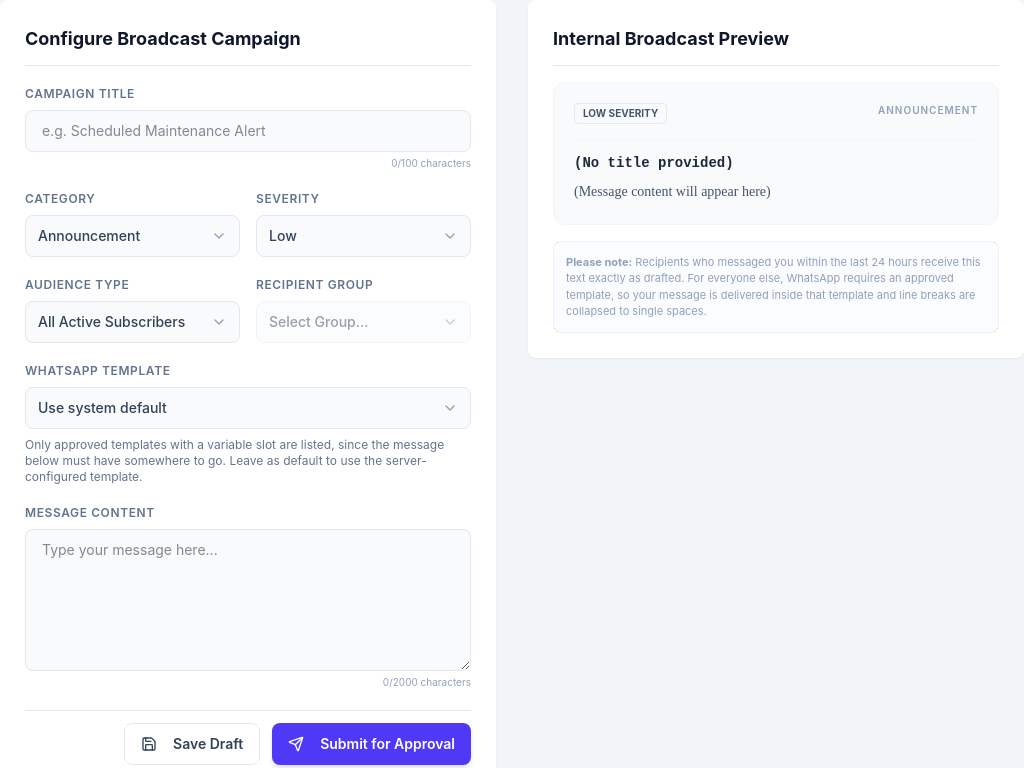
Scenario: BroadcastForm validation › blocks submission when the message is empty
Type "Has title" into the field with placeholder "e.g. Scheduled Maintenance Alert" at (248, 131), box x1=25 y1=110 x2=471 y2=152
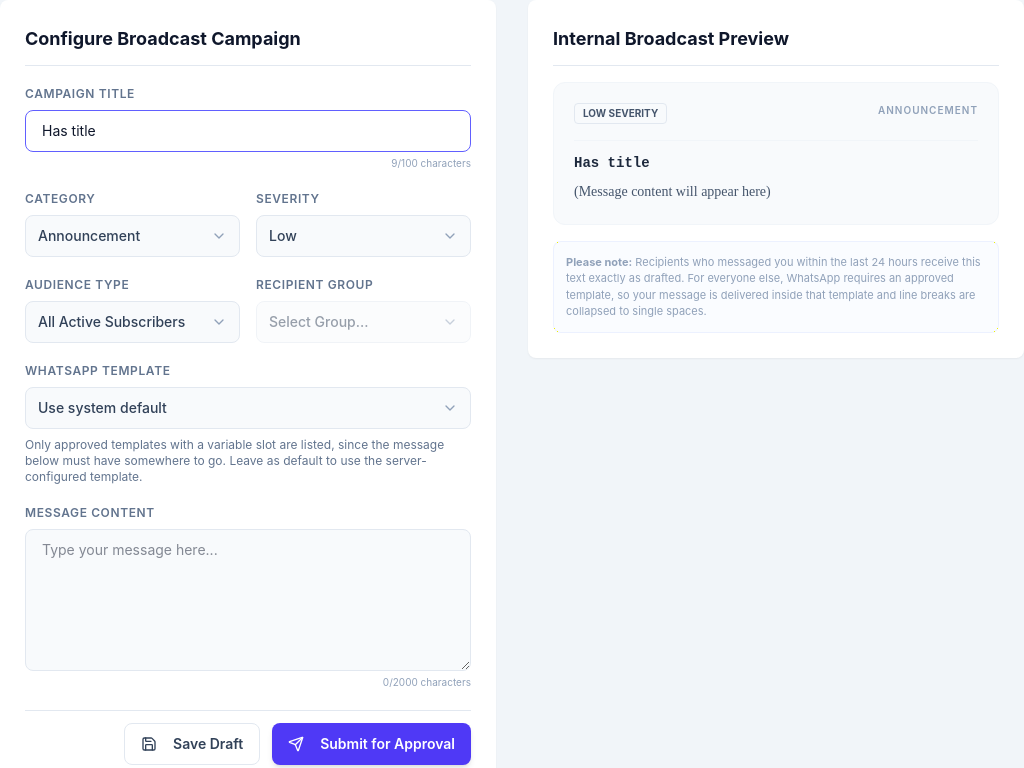
Click the button "Submit for Approval" at (372, 744), box x1=272 y1=723 x2=471 y2=765
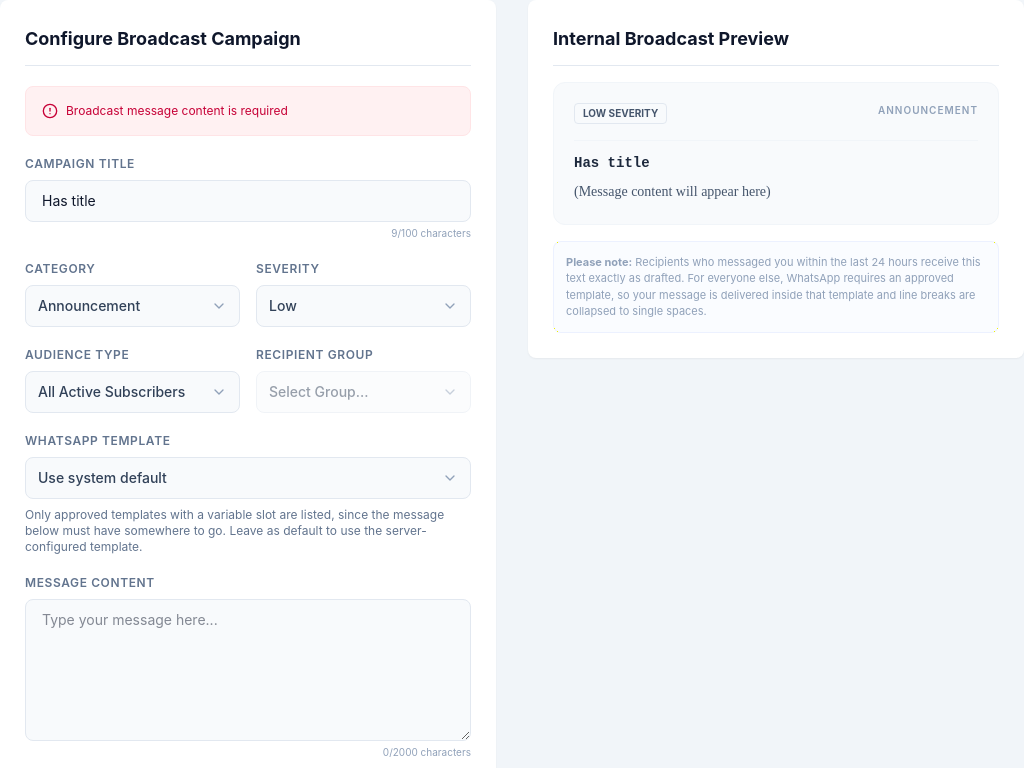
Now the text "Broadcast message content is required" is shown, box x1=66 y1=103 x2=288 y2=119
